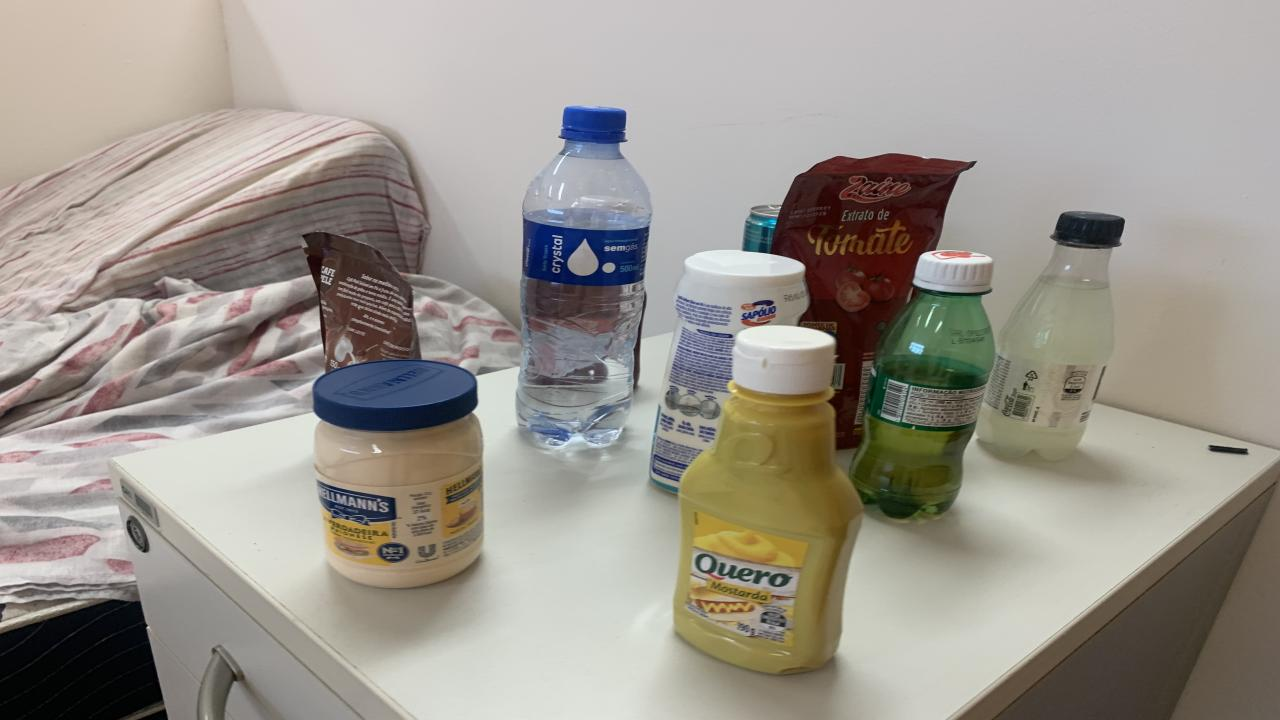Cleaner-Cleanup_Items: (650, 251, 810, 491)
Coffee-Pantry_Items: (302, 232, 420, 371)
Guarana-Drinks: (850, 249, 995, 519)
Mayonnaise-Pantry_Items: (312, 358, 482, 589)
Mustard-Pantry_Items: (675, 324, 862, 673)
Soda-Drinks: (978, 212, 1125, 459)
Tea-Drinks: (742, 204, 780, 253)
Tomato_Sauce-Pantry_Items: (770, 154, 975, 448)
Water_Bottle-Drinks: (515, 107, 652, 446)
